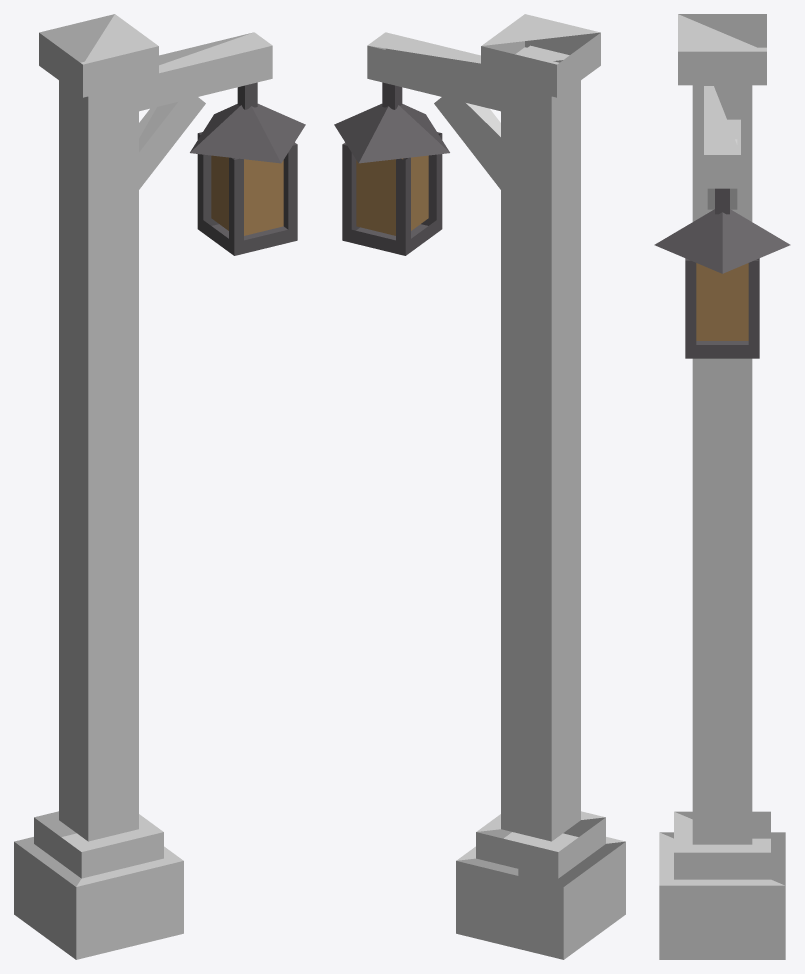
Rendered from Lantern_Post_Western.fbx.
The picture shows the model from 3 angles, left to right: view 1: azimuth 30°, elevation 25°; view 2: azimuth 150°, elevation 25°; view 3: azimuth 270°, elevation 25°; orthographic projection.
Visible parts, largest first — view 1: Lantern_Post_Western_Post, Lantern_Post_Western_Base, Lantern_Post_Western_PostCap, Lantern_Post_Western_Arm, Lantern_Post_Western_BaseCap, Lantern_Post_Western_Roof, Lantern_Post_Western_Glass, Lantern_Post_Western, Lantern_Post_Western_Brace, Lantern_Post_Western_Floor; view 2: Lantern_Post_Western_Post, Lantern_Post_Western_Base, Lantern_Post_Western_PostCap, Lantern_Post_Western_Arm, Lantern_Post_Western_BaseCap, Lantern_Post_Western_Roof, Lantern_Post_Western_Glass, Lantern_Post_Western, Lantern_Post_Western_Brace, Lantern_Post_Western_Floor; view 3: Lantern_Post_Western_Post, Lantern_Post_Western_Base, Lantern_Post_Western_PostCap, Lantern_Post_Western_BaseCap, Lantern_Post_Western_Roof, Lantern_Post_Western_Glass, Lantern_Post_Western_Arm, Lantern_Post_Western, Lantern_Post_Western_Floor, Lantern_Post_Western_Hanger, Lantern_Post_Western_Brace.
Part boxes in pixels (x1,y1,x2,y2): Lantern_Post_Western_Post: (59, 50, 138, 841); Lantern_Post_Western_Base: (14, 837, 183, 959); Lantern_Post_Western_PostCap: (39, 14, 158, 97); Lantern_Post_Western_Arm: (64, 32, 272, 124); Lantern_Post_Western_BaseCap: (34, 811, 163, 878); Lantern_Post_Western_Roof: (190, 103, 305, 163); Lantern_Post_Western_Glass: (211, 155, 283, 235); Lantern_Post_Western: (197, 132, 297, 244); Lantern_Post_Western_Brace: (139, 97, 205, 189); Lantern_Post_Western_Floor: (197, 216, 297, 255); Lantern_Post_Western_Post: (501, 45, 580, 841); Lantern_Post_Western_Base: (456, 833, 625, 959); Lantern_Post_Western_PostCap: (481, 14, 600, 97); Lantern_Post_Western_Arm: (367, 32, 575, 124); Lantern_Post_Western_BaseCap: (476, 811, 605, 878); Lantern_Post_Western_Roof: (334, 103, 449, 163); Lantern_Post_Western_Glass: (356, 155, 428, 235); Lantern_Post_Western: (342, 132, 442, 245); Lantern_Post_Western_Brace: (434, 97, 500, 189); Lantern_Post_Western_Floor: (342, 216, 442, 255); Lantern_Post_Western_Post: (692, 44, 752, 844); Lantern_Post_Western_Base: (659, 832, 785, 959); Lantern_Post_Western_PostCap: (678, 14, 766, 85); Lantern_Post_Western_BaseCap: (674, 811, 770, 879); Lantern_Post_Western_Roof: (654, 209, 790, 273); Lantern_Post_Western_Glass: (696, 263, 748, 340); Lantern_Post_Western_Arm: (704, 86, 740, 188); Lantern_Post_Western: (685, 258, 759, 348); Lantern_Post_Western_Floor: (685, 341, 759, 358); Lantern_Post_Western_Hanger: (715, 188, 729, 214); Lantern_Post_Western_Brace: (707, 139, 737, 209).
Size of the model in its own units: 0.8238 by 2.67 by 0.3677.
